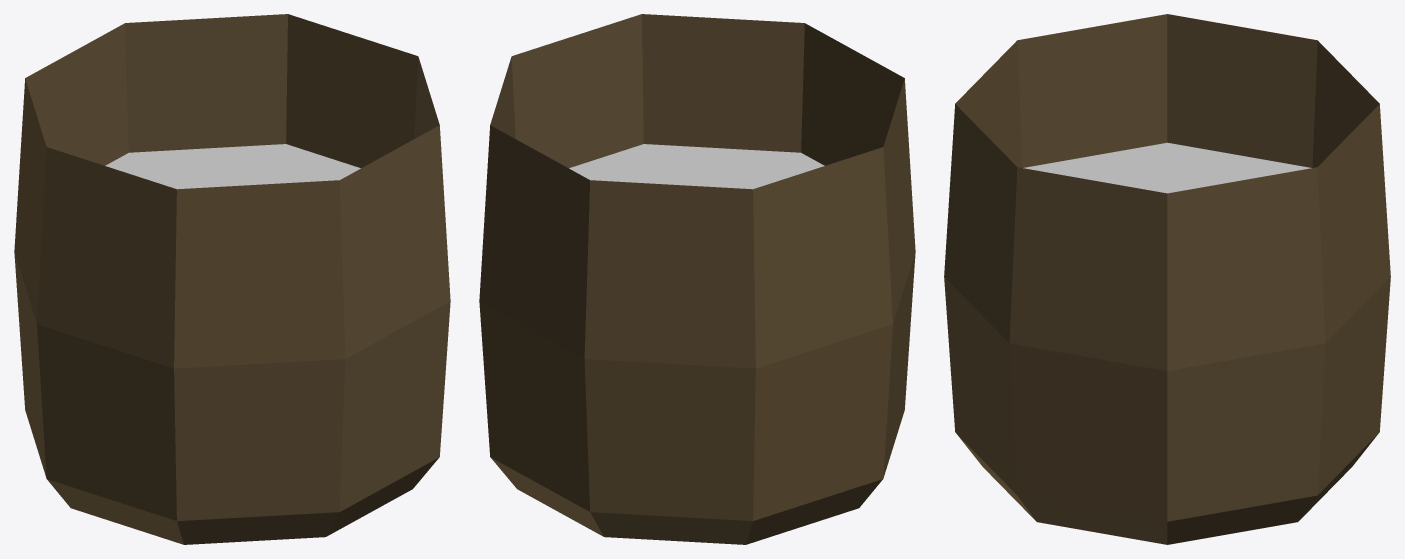
Rendered from ITMI_PITCH.OBJ.
3 renders of one model, left to right at view 1: azimuth 30°, elevation 25°; view 2: azimuth 150°, elevation 25°; view 3: azimuth 270°, elevation 25°, orthographic.
Parts seen in each view (by area): view 1: ITMI_PITCH; view 2: ITMI_PITCH; view 3: ITMI_PITCH.
Part boxes in pixels (x1=…): ITMI_PITCH: x1=14, y1=14, x2=450, y2=544; ITMI_PITCH: x1=479, y1=14, x2=915, y2=544; ITMI_PITCH: x1=944, y1=14, x2=1390, y2=544.
Size of the model in its own units: 0.2357 by 0.2114 by 0.2357.
